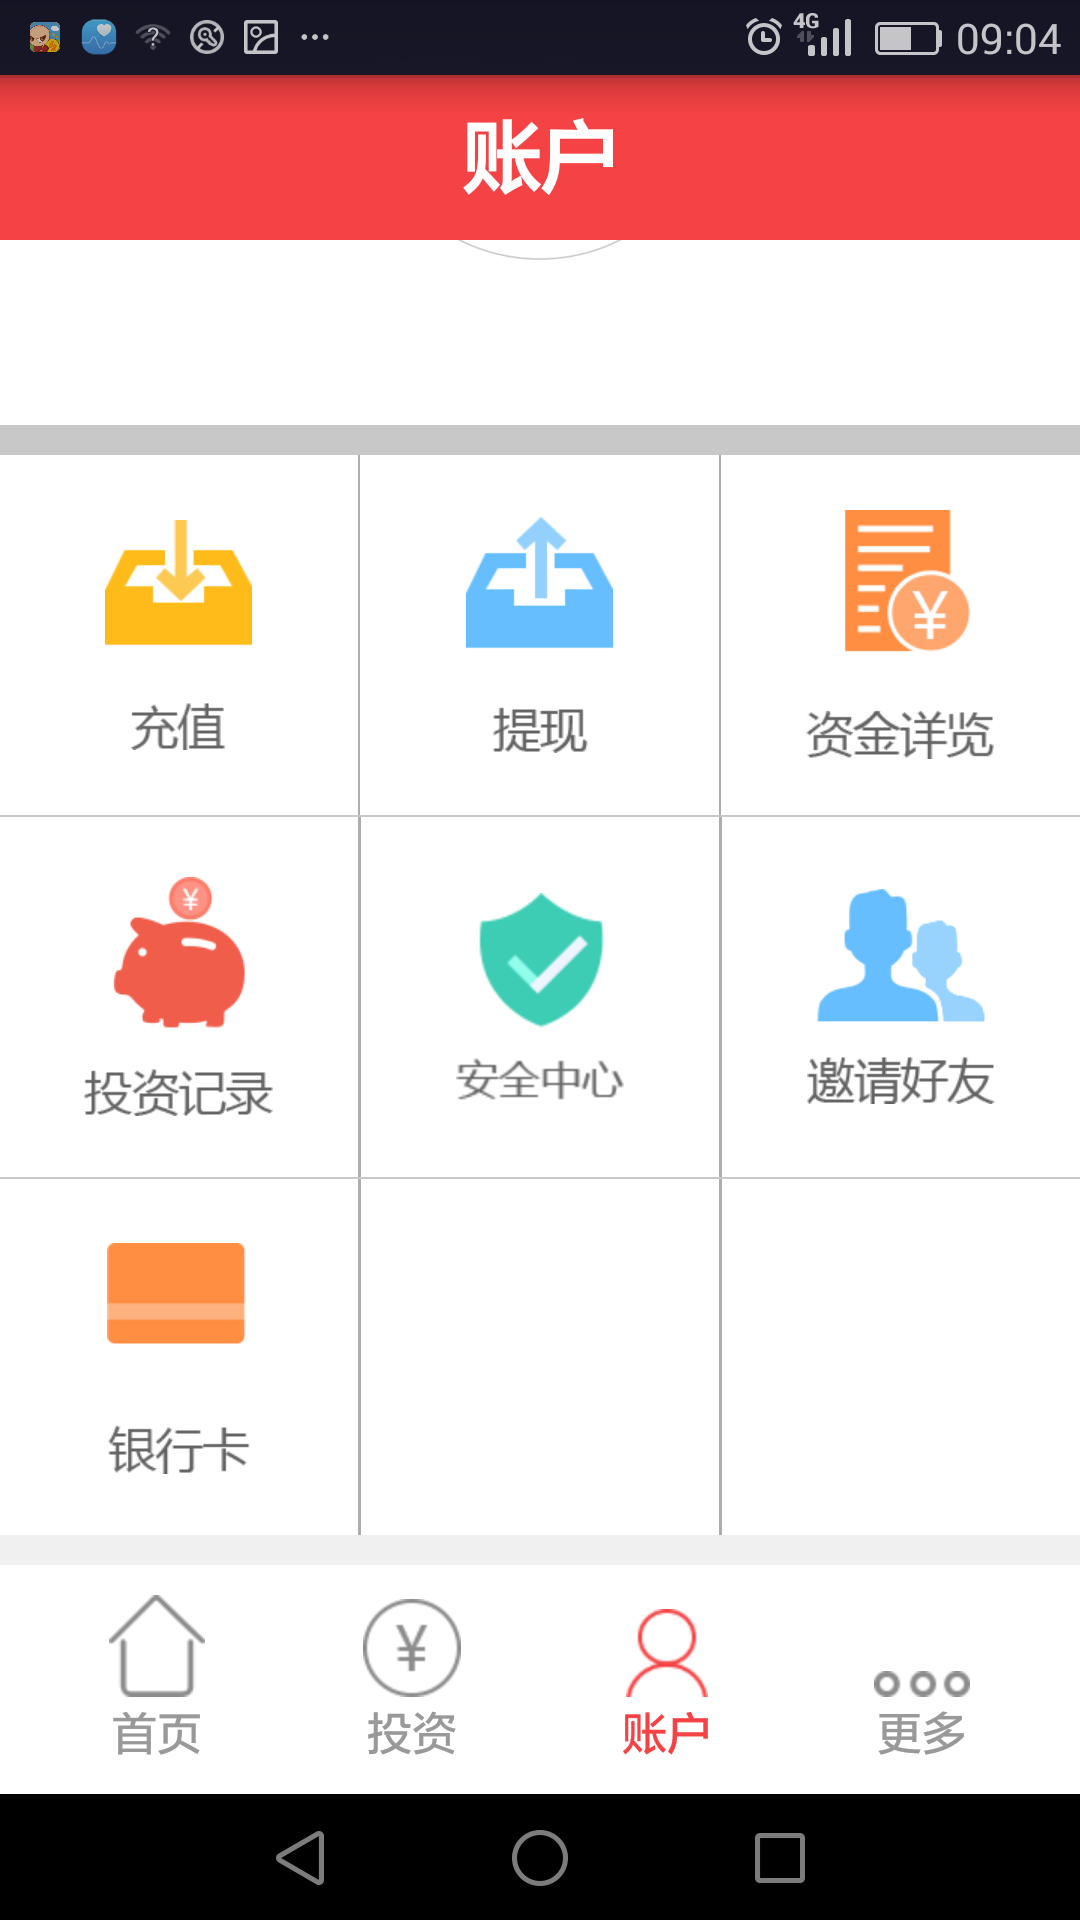imgbutton: (790, 872, 1011, 1048), (433, 865, 637, 1039), (80, 855, 255, 1055), (802, 500, 1004, 665), (436, 508, 636, 669), (75, 508, 269, 661), (96, 1215, 257, 1353)
textview: (4, 443, 1075, 1553)
